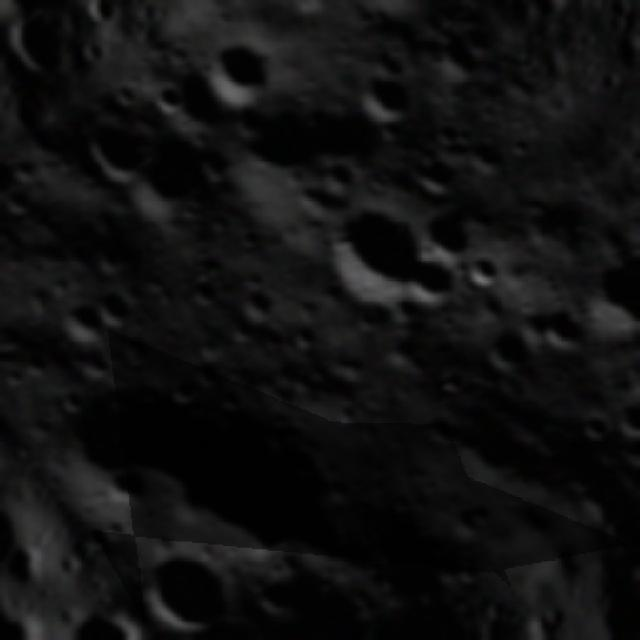crater: (300, 178, 445, 325), (278, 72, 407, 200), (219, 93, 333, 207), (130, 535, 252, 640), (358, 522, 472, 632), (113, 137, 227, 246), (69, 96, 177, 202), (197, 19, 297, 124), (567, 233, 640, 354), (459, 416, 550, 507), (160, 60, 246, 148), (345, 61, 430, 150), (522, 282, 607, 368), (468, 312, 552, 397), (42, 288, 120, 366), (397, 244, 474, 322), (326, 0, 462, 43), (408, 198, 484, 274), (83, 216, 159, 290), (424, 28, 494, 98), (404, 143, 470, 211), (288, 167, 355, 233), (85, 280, 150, 346), (250, 565, 315, 629), (108, 324, 170, 387), (97, 460, 158, 522), (458, 132, 518, 191), (442, 492, 502, 550), (380, 282, 438, 340), (67, 338, 124, 397), (456, 244, 512, 302), (231, 280, 286, 335), (183, 348, 237, 402), (418, 408, 470, 462), (527, 422, 579, 476), (572, 406, 622, 459), (282, 312, 332, 362), (145, 74, 193, 126), (281, 442, 330, 492), (0, 182, 46, 235), (9, 148, 58, 197), (609, 341, 640, 416), (428, 113, 475, 162), (0, 308, 37, 368), (210, 376, 258, 422), (48, 380, 92, 425), (381, 486, 425, 531), (15, 346, 60, 389), (183, 277, 228, 320), (318, 471, 360, 514), (606, 396, 640, 449), (502, 130, 544, 172), (79, 518, 119, 559), (164, 376, 204, 416), (98, 512, 136, 552), (202, 209, 240, 248), (0, 358, 34, 399), (283, 0, 343, 23), (447, 0, 482, 31)
